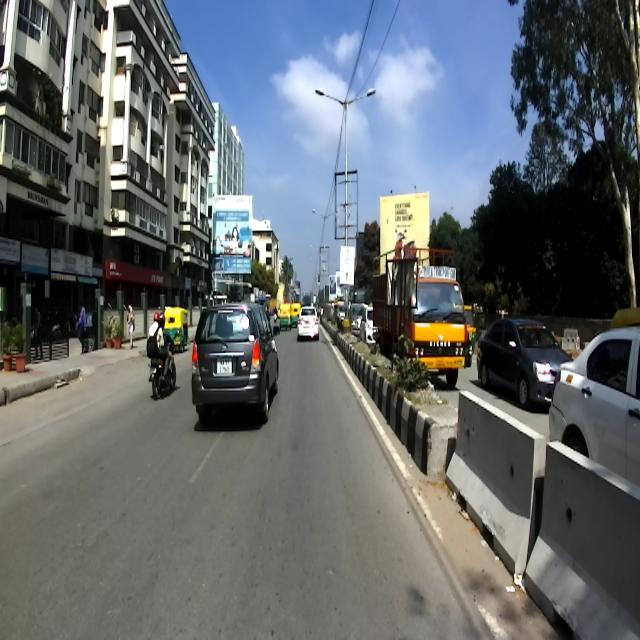car ahead at: (188, 290, 286, 432)
motorcycle ahead at: (140, 335, 181, 408)
